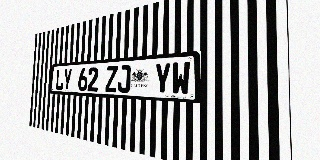2: (87, 67, 98, 92)
6: (78, 67, 88, 91)
J: (117, 65, 131, 93)
L: (55, 69, 64, 90)
W: (171, 61, 190, 95)
Y: (154, 62, 171, 95), (63, 68, 72, 91)
Z: (105, 66, 118, 92)
